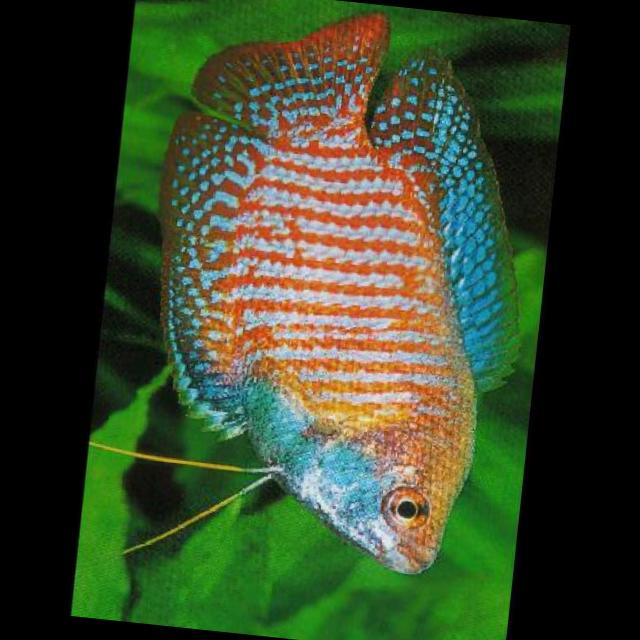Gourami: (133, 0, 555, 578)
